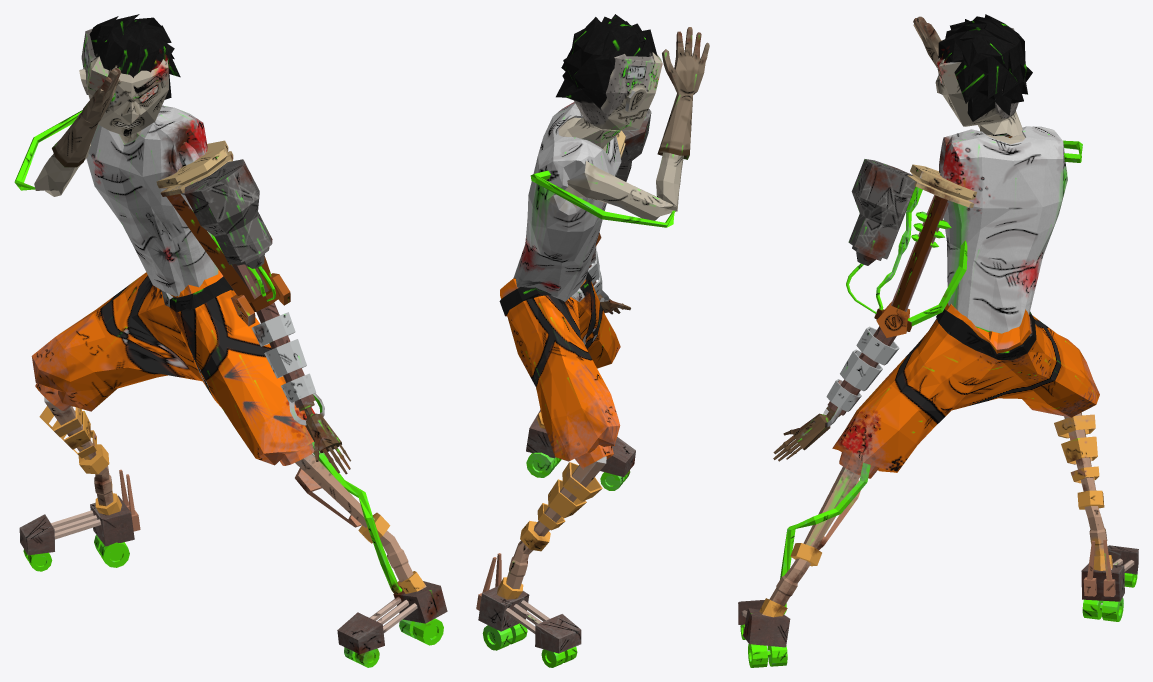
The model's file is CyborgFINALAnimation_000059.obj.
3 renders of one model, left to right at view 1: azimuth 30°, elevation 25°; view 2: azimuth 150°, elevation 25°; view 3: azimuth 270°, elevation 25°, orthographic. The views are drawn at different scales.
Parts seen in each view (by area): view 1: CyborgMesh_Cube.002; view 2: CyborgMesh_Cube.002; view 3: CyborgMesh_Cube.002.
Part boxes in pixels (x1=…): CyborgMesh_Cube.002: x1=14, y1=14, x2=447, y2=667; CyborgMesh_Cube.002: x1=476, y1=14, x2=709, y2=667; CyborgMesh_Cube.002: x1=738, y1=14, x2=1138, y2=667.
Bounding box in the file's own units: 4.24 × 8.64 × 5.44.
